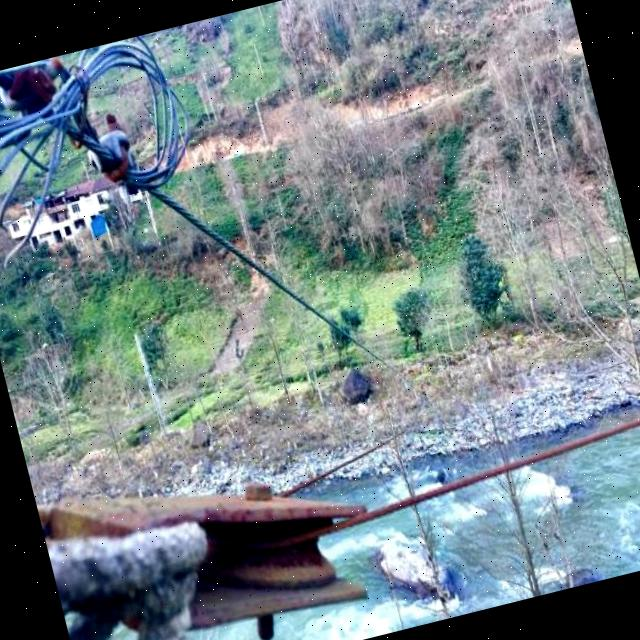Broken Pole: (0, 40, 196, 249)
